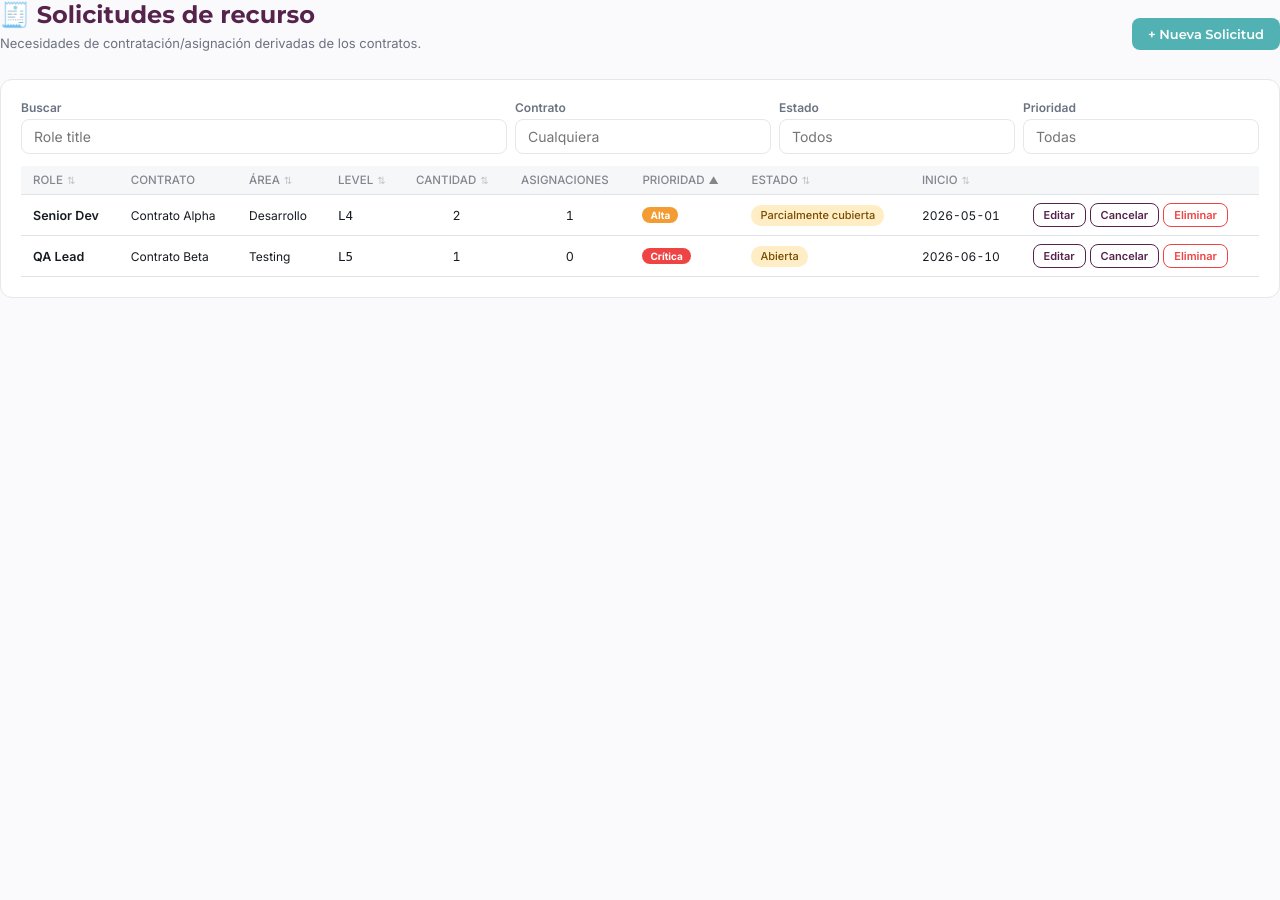
ResourceRequests module › SPEC-010: selector de contrato con búsqueda por texto › muestra todos los contratos al abrir el selector
Expected: the text "Senior Dev" is shown, [21, 194, 119, 236]
Click the button "+ Nueva Solicitud". click: [1206, 34]
box: [1132, 18, 1279, 50]
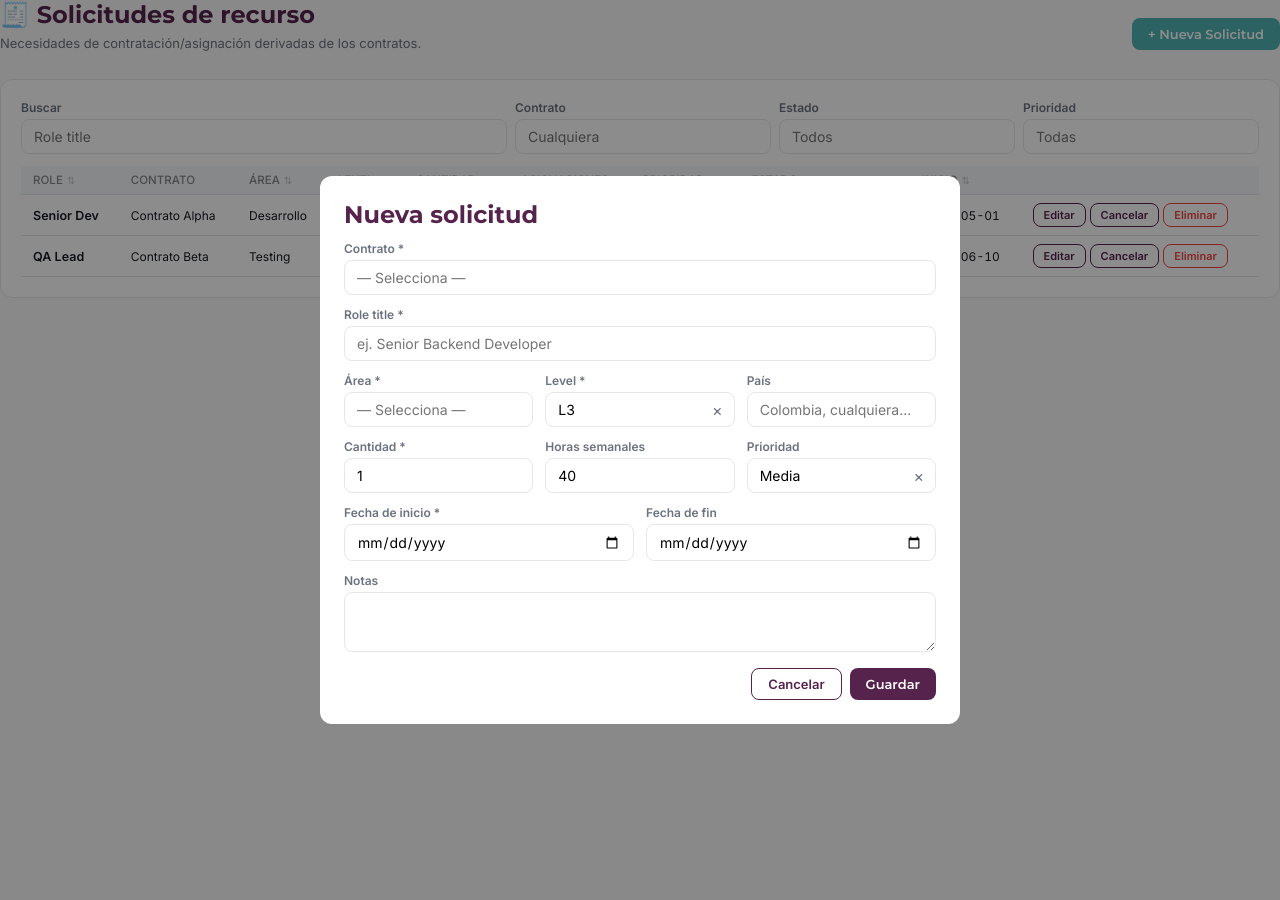
Click the dropdown named "Contrato". click: [640, 278]
box: [344, 260, 936, 295]
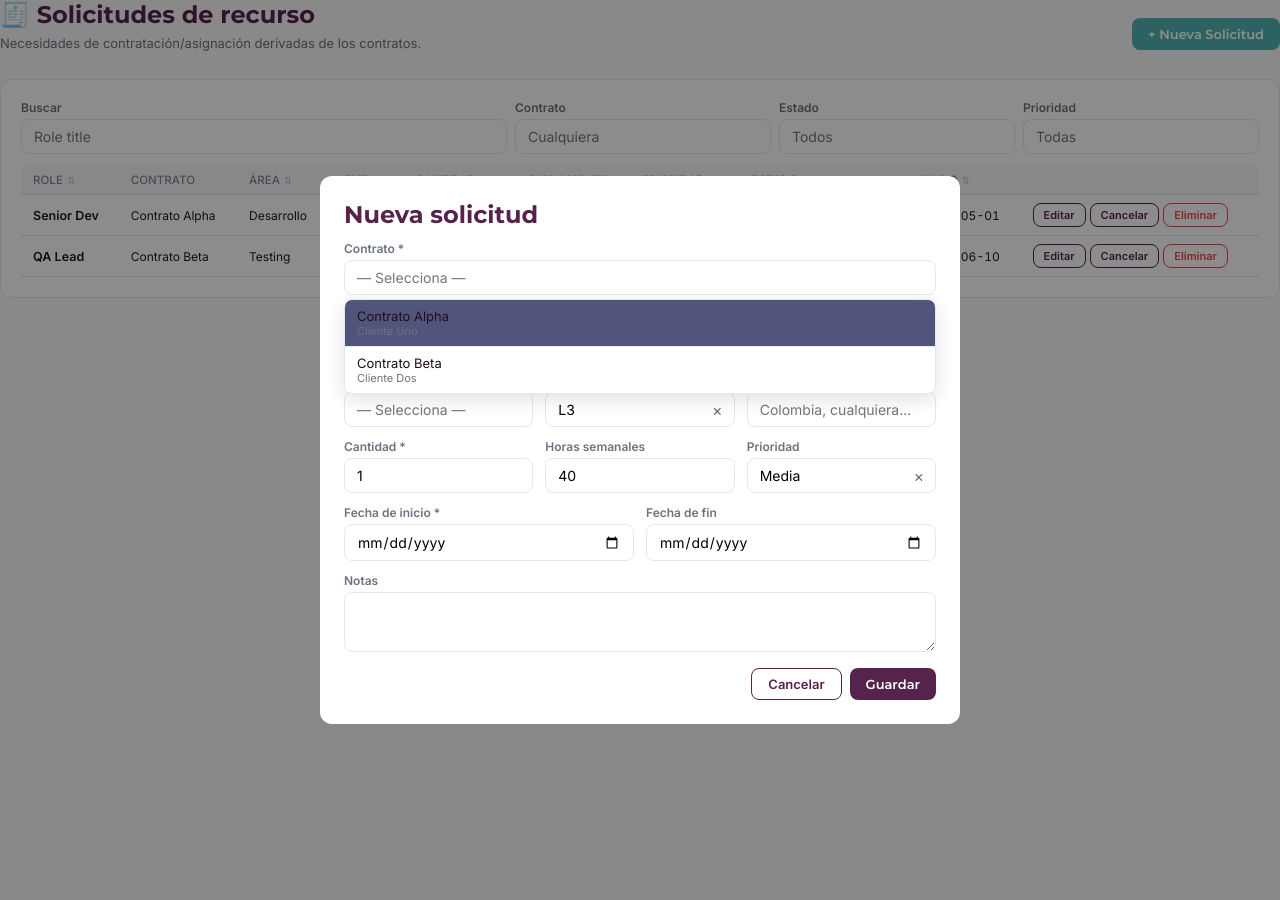
Now the text "Contrato Alpha" is shown, box [357, 308, 449, 324]
Now the text "Contrato Beta" is shown, box [357, 355, 442, 371]
